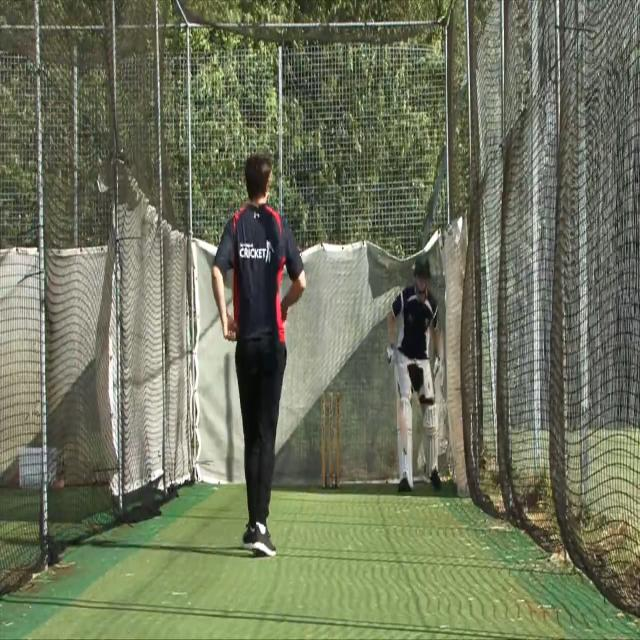batsman: (385, 251, 445, 496)
